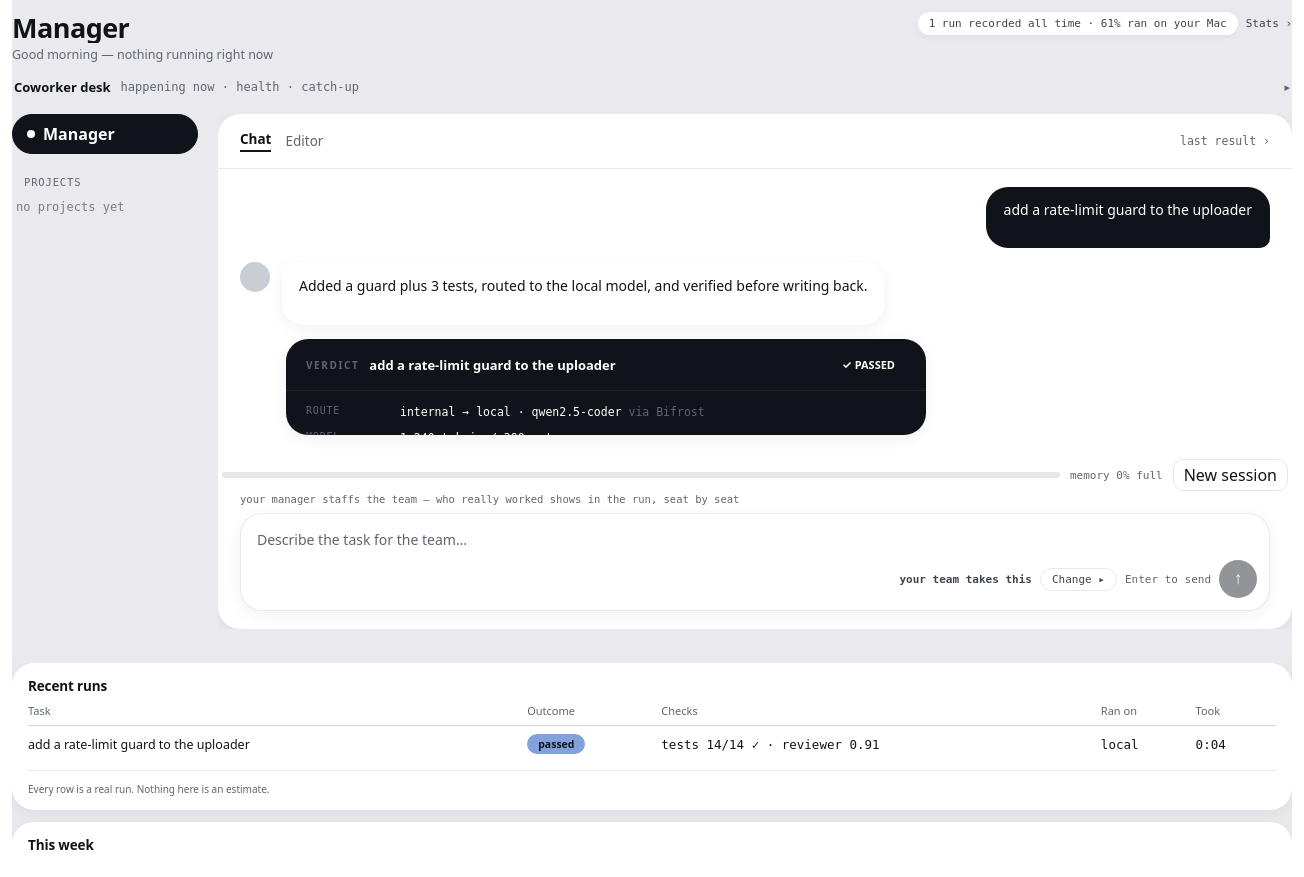
the routing line — a choice AND its reason, never a silent pick › the reason is the SENSITIVITY FLOOR when one applies, in the engine’s own words
This screenshot has width=1304, height=877.
In the text box labelled "Describe the task for the team…": (757, 540) [257,526,1257,554], type "summarize my mortgage statement"
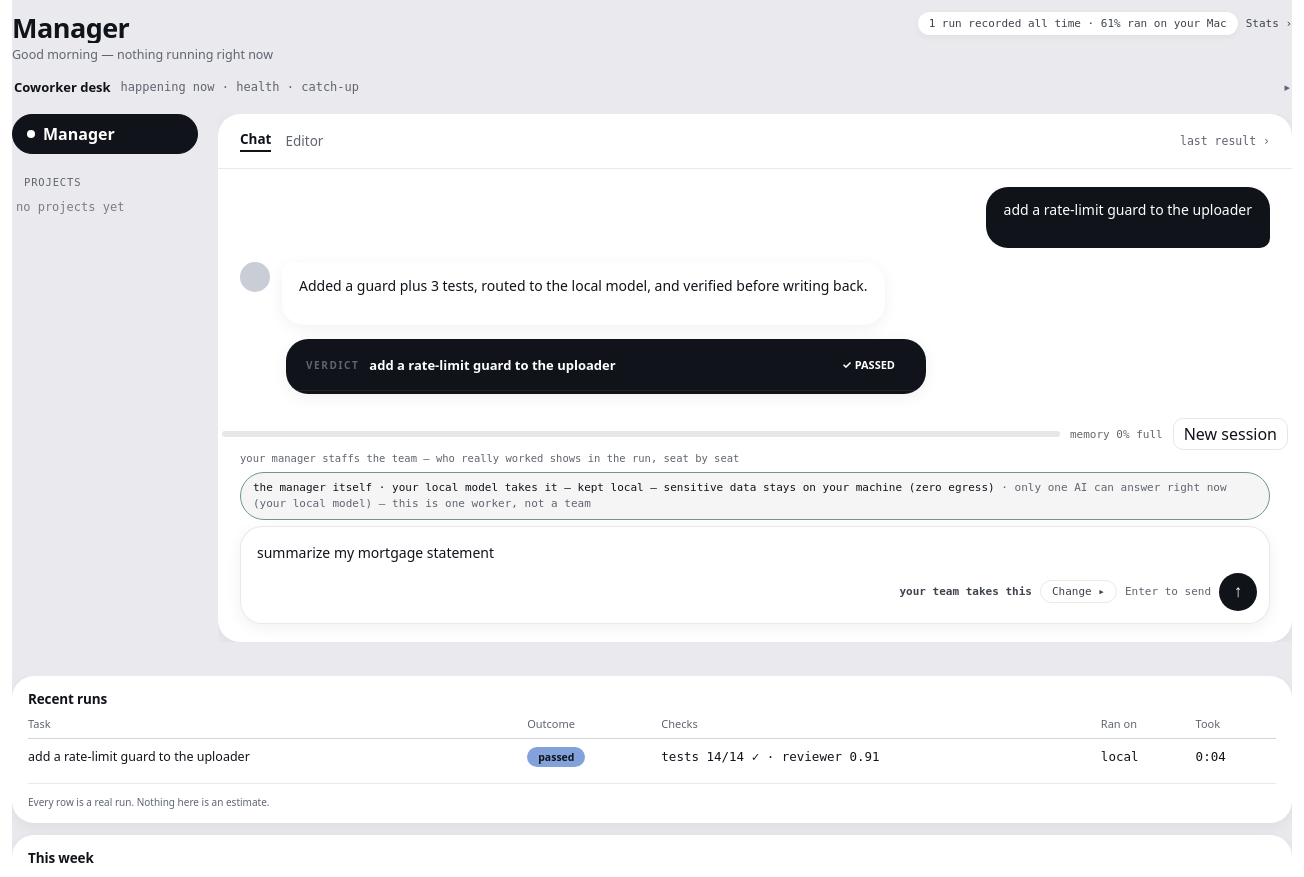
Expected: the element named "Who takes this, and why" shows "zero egress", [253,481,995,494]
